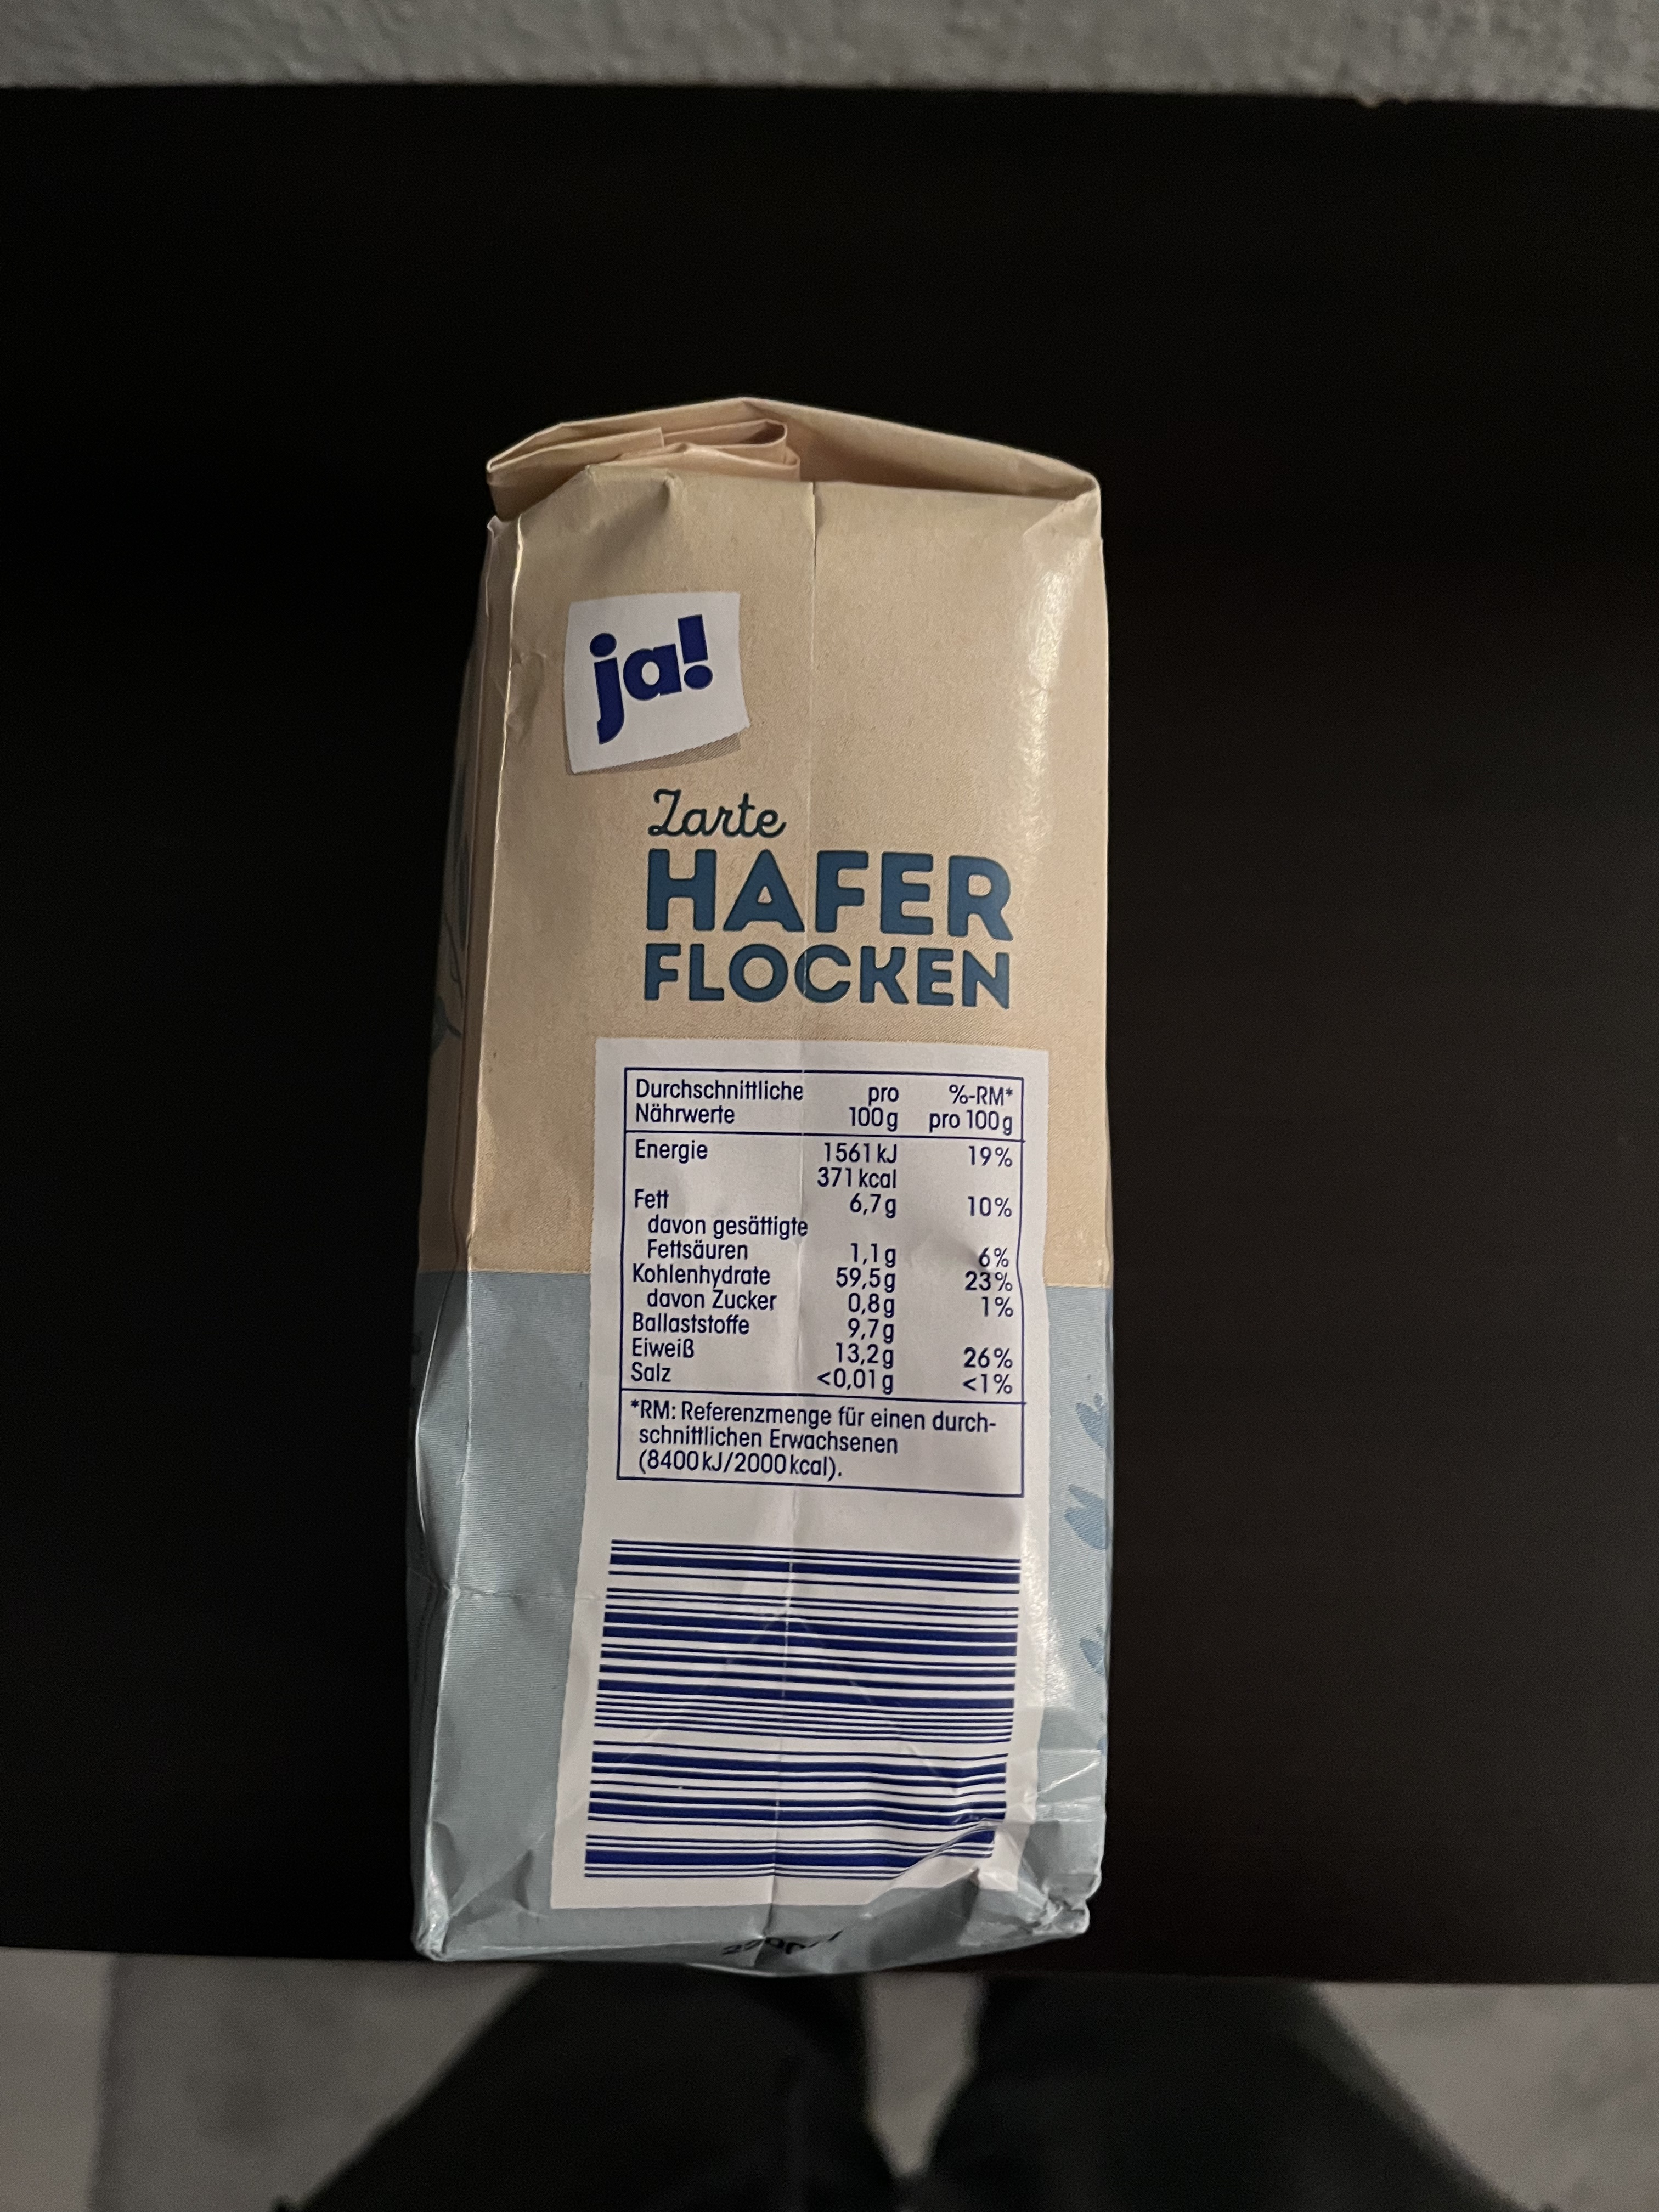haferflocken_ja: (408, 388, 1115, 1989)
